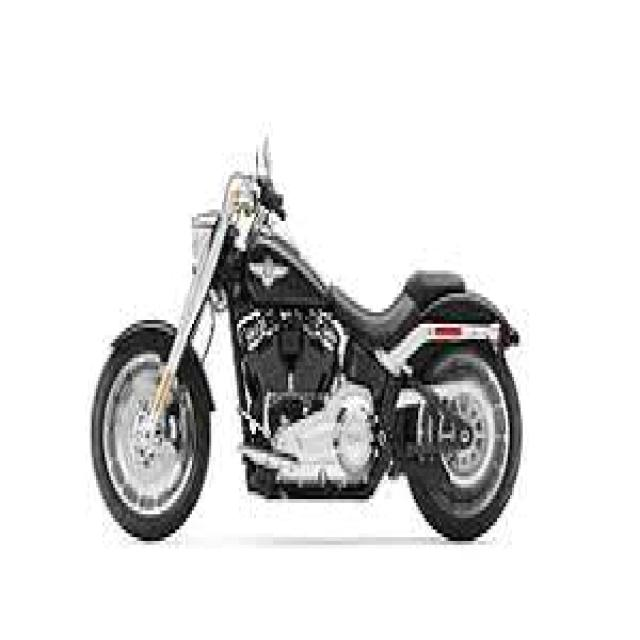MOTORCYCLE: (91, 160, 534, 542)
